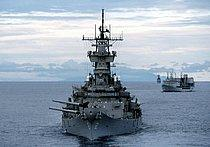MIL_Ship: (61, 7, 143, 138)
